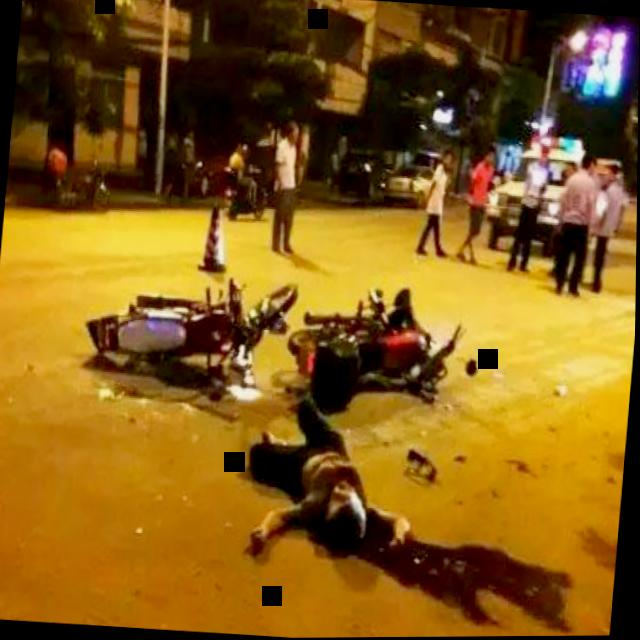Fall-Detected: (225, 351, 430, 579)
